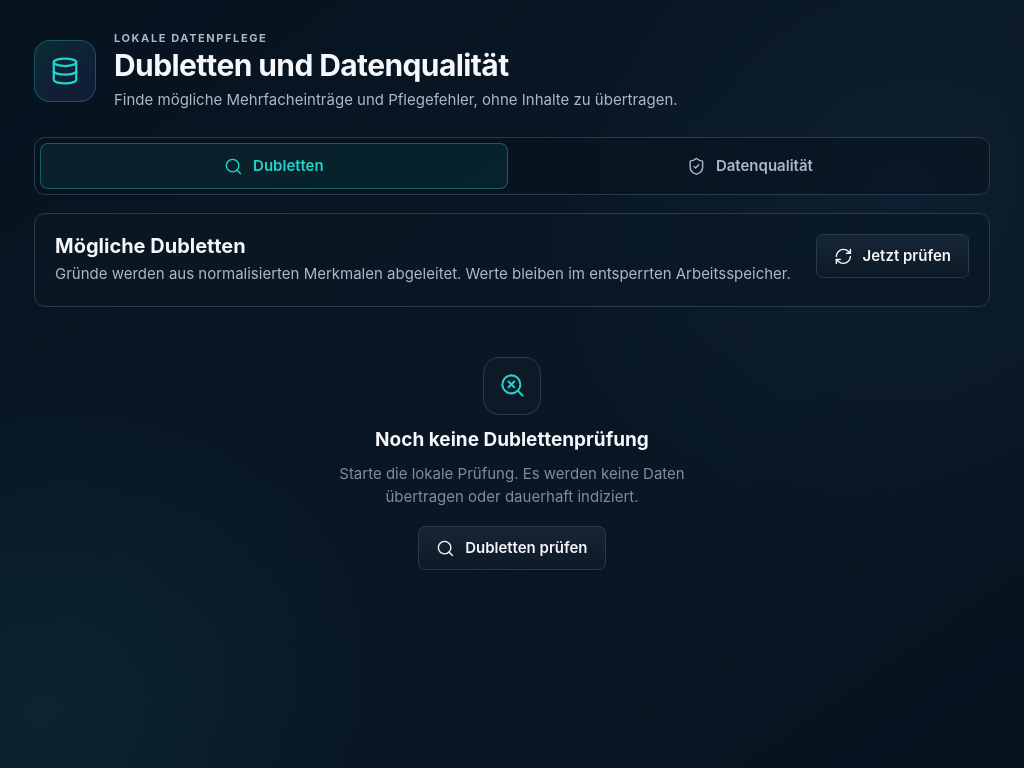
DataQualityViews › bestätigt den Papierkorb pro Kandidatenseite und setzt den Fokus sicher zurück
The image size is (1024, 768).
What coordinates should you click on to do the following:
click the button "Dubletten prüfen"
I would click on:
 (512, 548)
Its box is x1=418 y1=526 x2=606 y2=570.
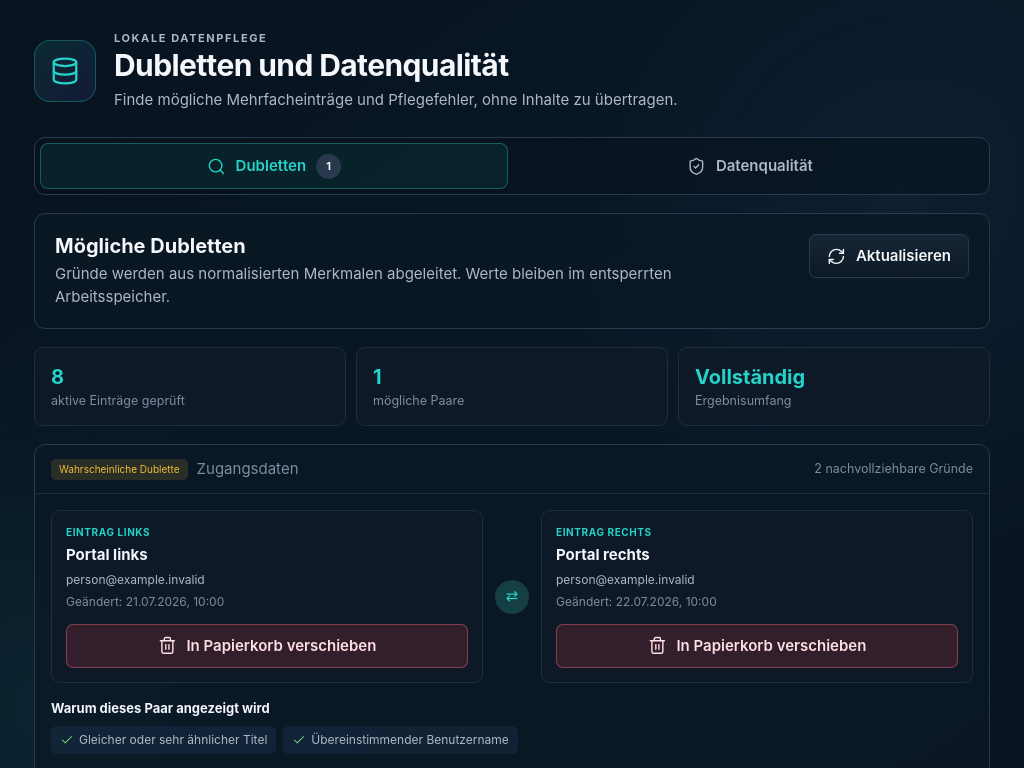
What coordinates should you click on to do the following:
click the button "In Papierkorb verschieben" below "21.07.2026, 10:00"
I would click on:
 (267, 646)
Its box is x1=66 y1=624 x2=468 y2=668.
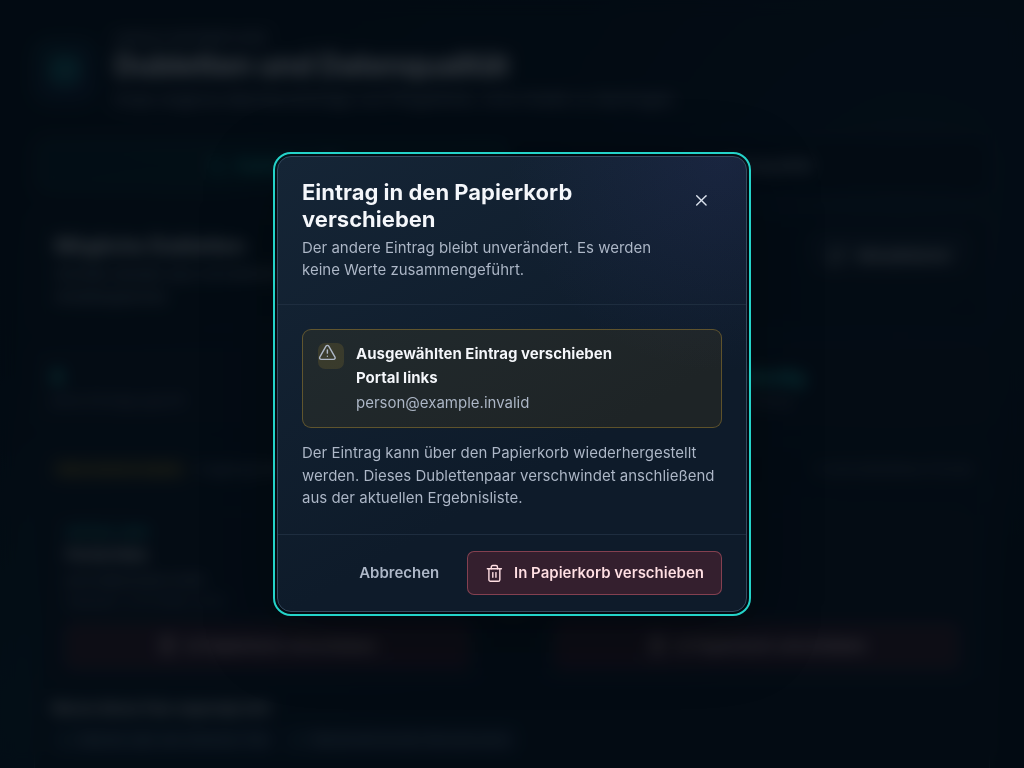
Expected: the text "Portal links" is shown, x1=356 y1=368 x2=438 y2=387
What coordinates should you click on to do the following:
click the button "In Papierkorb verschieben"
I would click on:
 (595, 573)
Its box is x1=467 y1=551 x2=722 y2=595.
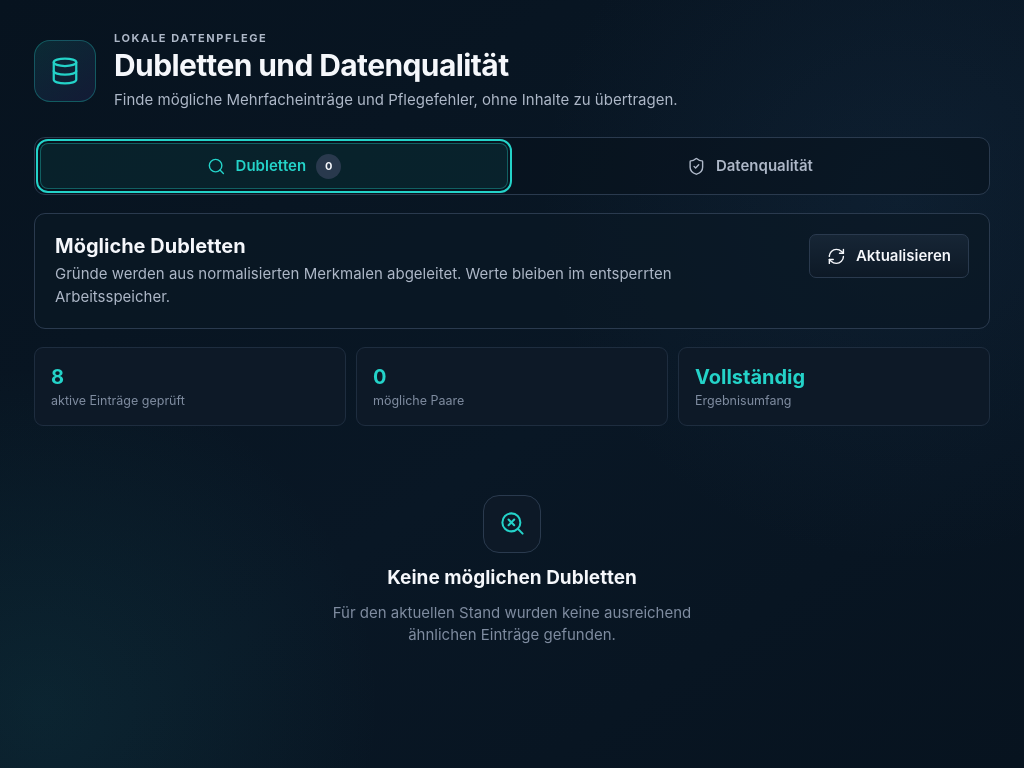
Expected: the heading "Eintrag in den Papierkorb verschieben" is gone
